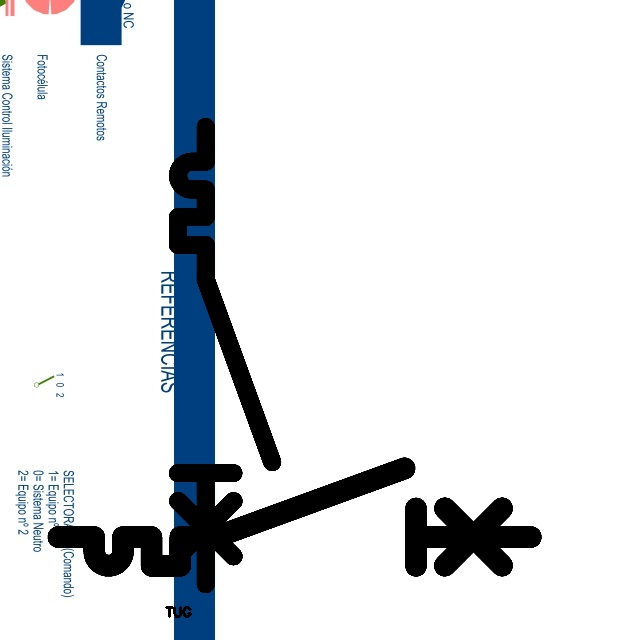interruptor_termomagnetico: (46, 456, 543, 578), (166, 115, 283, 595)
